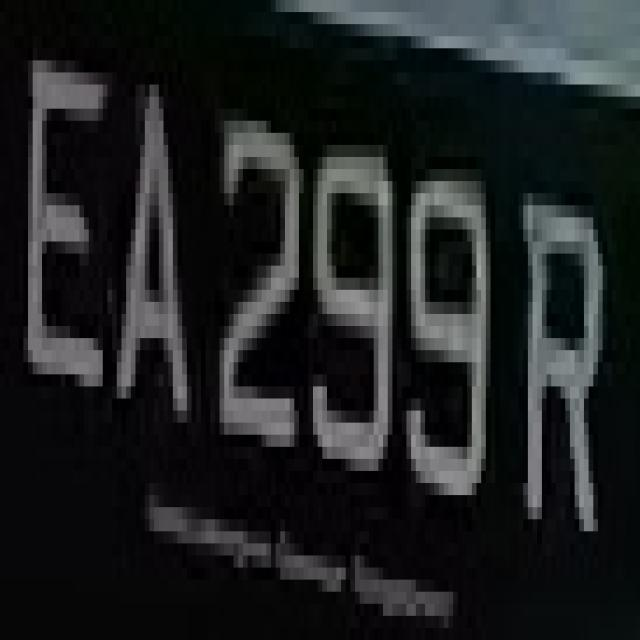2: (215, 73, 308, 507)
9: (304, 109, 402, 495), (397, 145, 495, 531)
A: (112, 60, 215, 459)
E: (18, 24, 102, 423)
R: (509, 169, 607, 556)
